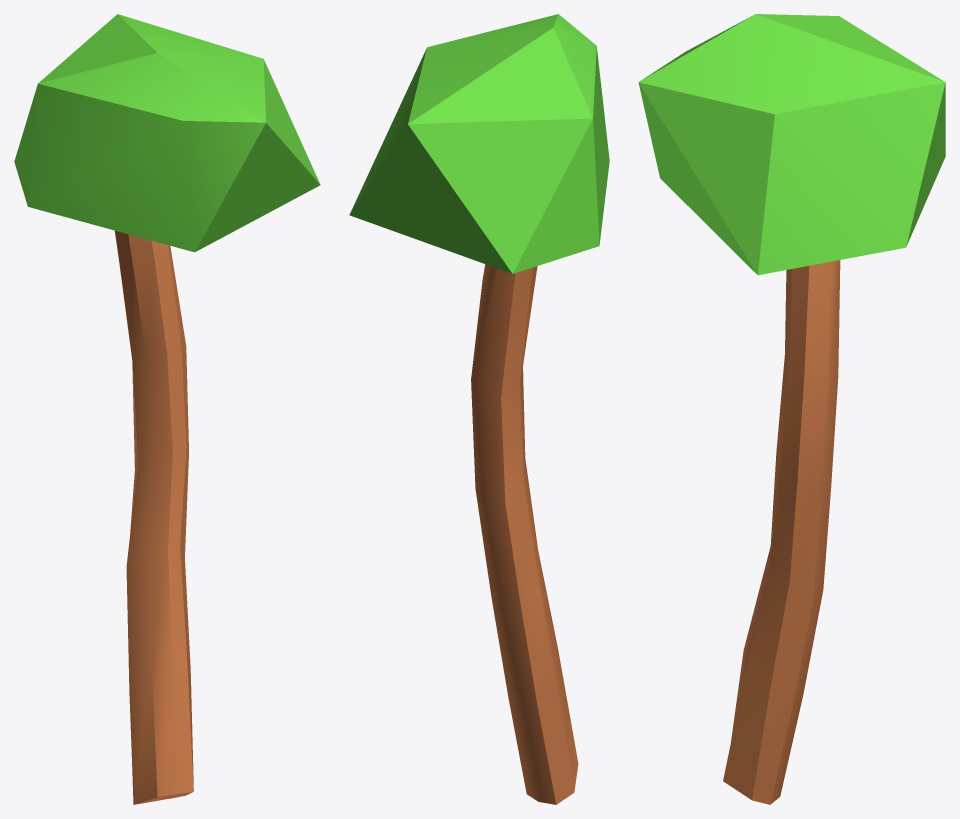
The model's file is tree2.fbx.
3 renders of one model, left to right at view 1: azimuth 30°, elevation 25°; view 2: azimuth 150°, elevation 25°; view 3: azimuth 270°, elevation 25°, orthographic. The views are drawn at different scales.
Visible parts, largest first — view 1: Icosphere.002, Cube.002; view 2: Icosphere.002, Cube.002; view 3: Icosphere.002, Cube.002.
Part boxes in pixels (box(x1,y1,x2,y2)): Icosphere.002: box(14, 14, 320, 252); Cube.002: box(114, 230, 193, 804); Icosphere.002: box(349, 14, 609, 273); Cube.002: box(471, 264, 578, 804); Icosphere.002: box(638, 14, 945, 275); Cube.002: box(723, 260, 840, 804).
Bounding box in the file's own units: 34.46 × 98.91 × 35.23.
